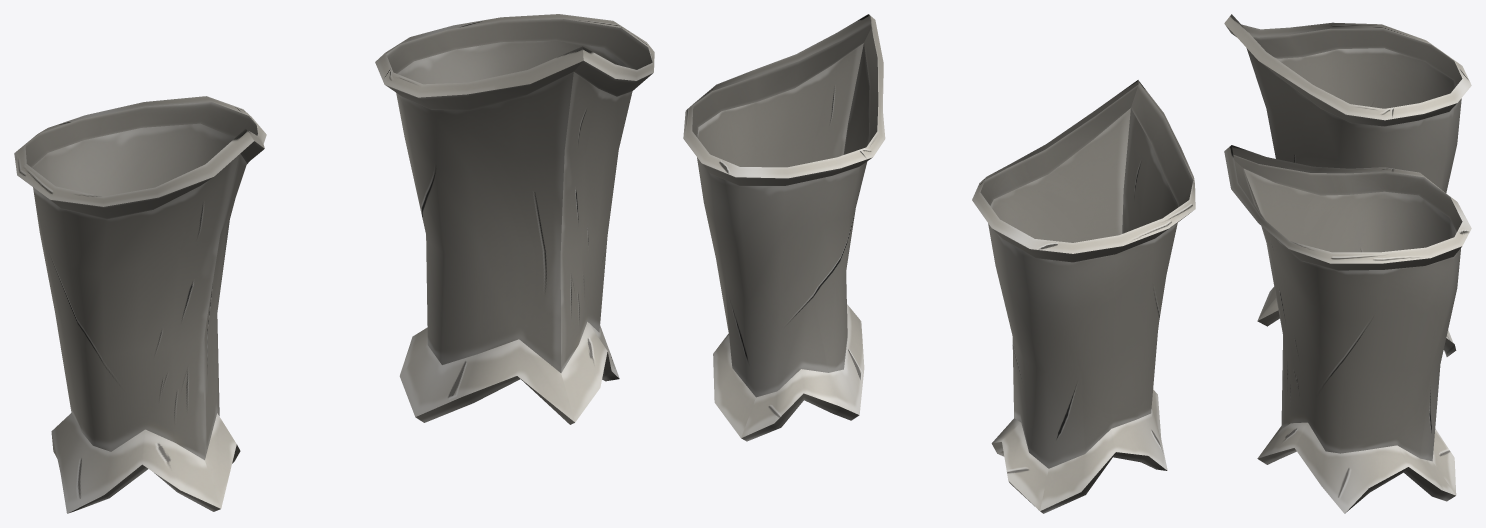
Rendered from armorlegs.glb.
The picture shows the model from 3 angles, left to right: view 1: azimuth 30°, elevation 25°; view 2: azimuth 150°, elevation 25°; view 3: azimuth 270°, elevation 25°; orthographic projection. The views are drawn at different scales.
Visible parts, largest first — view 1: armorlegs; view 2: armorlegs; view 3: armorlegs.
Boxes of the visible parts, left/top/right/bottom form: armorlegs: left=14, top=14, right=654, bottom=513; armorlegs: left=683, top=14, right=1195, bottom=513; armorlegs: left=1224, top=14, right=1471, bottom=513.
Size of the model in its own units: 0.462 by 0.3211 by 0.2058.
1 material, 1 textured.
